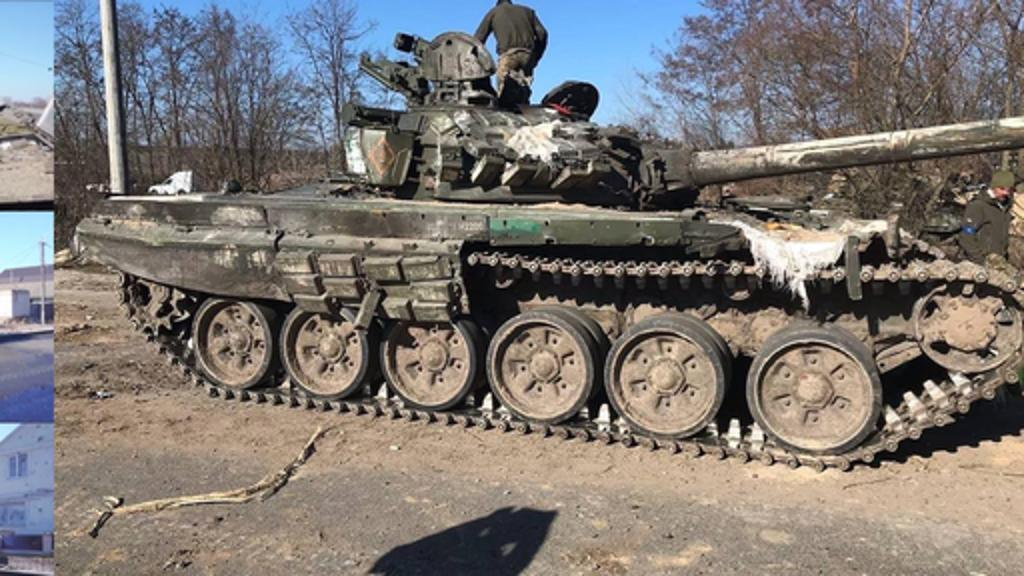TANK: (64, 28, 1022, 486)
